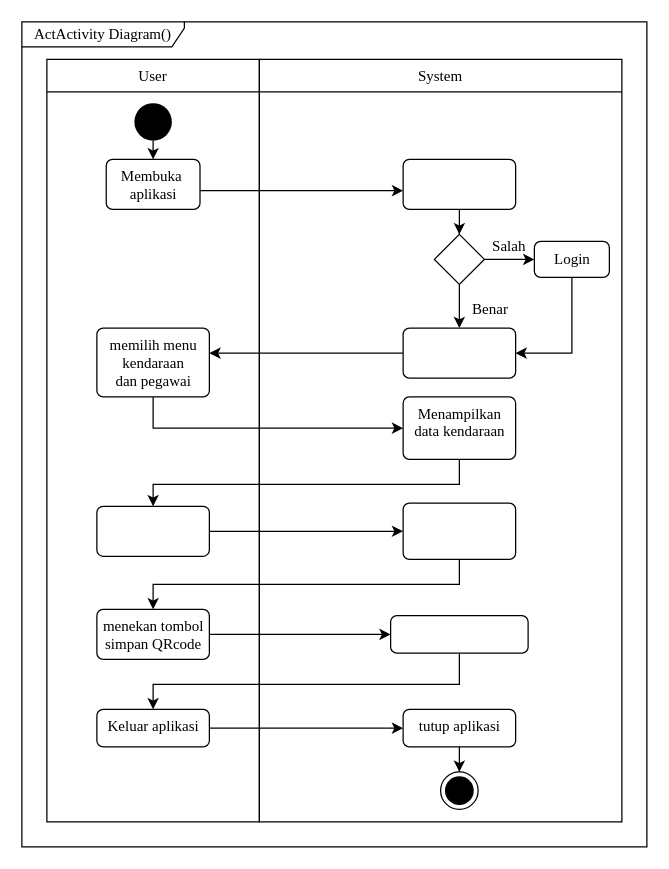
Image size: 669x869. Some labels were removed from this diagram. Here are the shapes that lost their labels. From the top down, the centre of each, then its label:
At point (459, 183): "cek akun jika belum login".
At point (459, 352): "Menampilkan menu utama".
At point (152, 530): "Memilih data kendaraan".
At point (459, 530): "menampilkan detail kendaraan".
At point (458, 633): "menyimpan QRcode".
